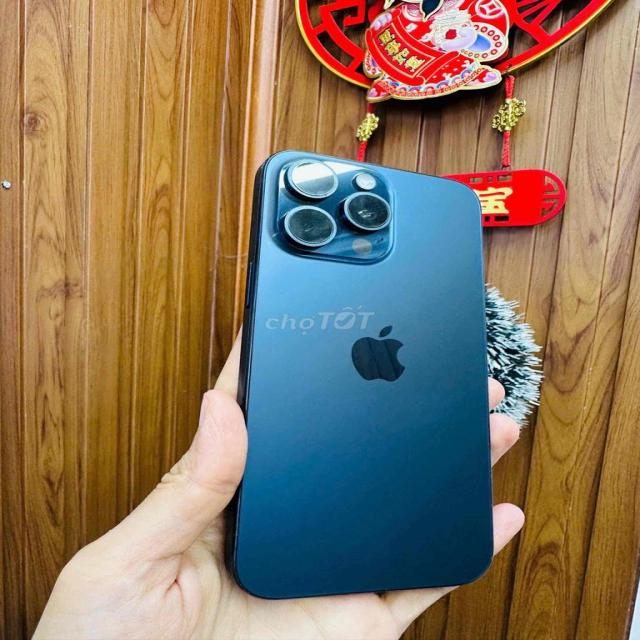gen_15: (233, 136, 518, 634)
